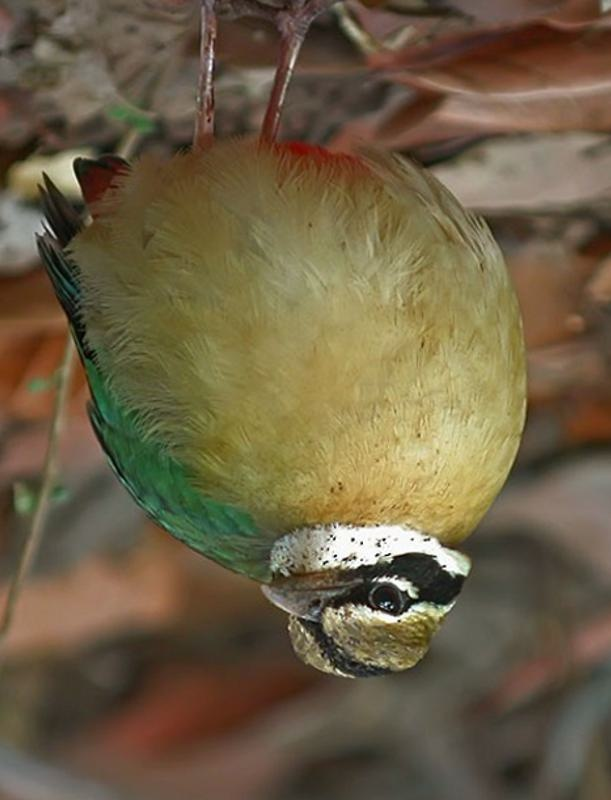pitta: (1, 1, 496, 726)
